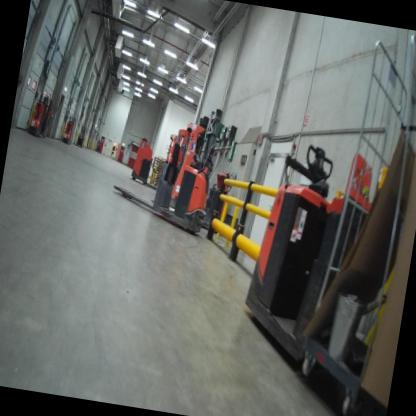forklift: (166, 103, 216, 217), (147, 121, 194, 220), (149, 127, 181, 196)
pallet_truck: (232, 129, 406, 398), (104, 105, 229, 232), (127, 135, 171, 199), (21, 84, 62, 148), (57, 104, 80, 146)
